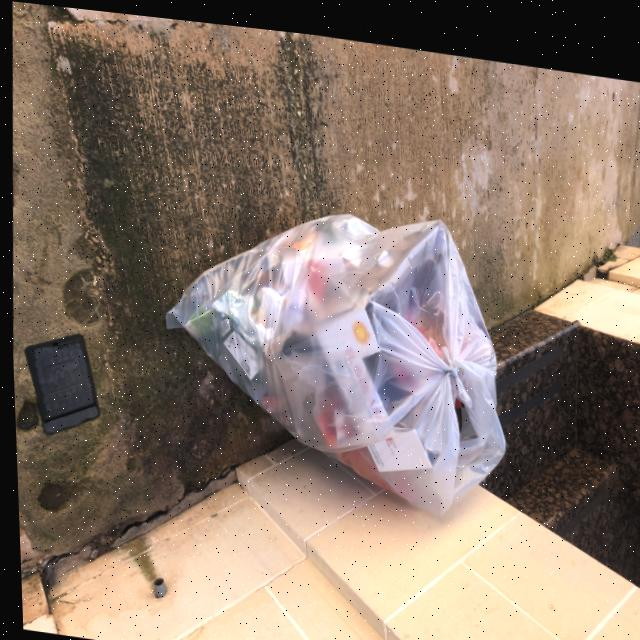Organic Waste -White Bag-: (159, 169, 516, 515)
